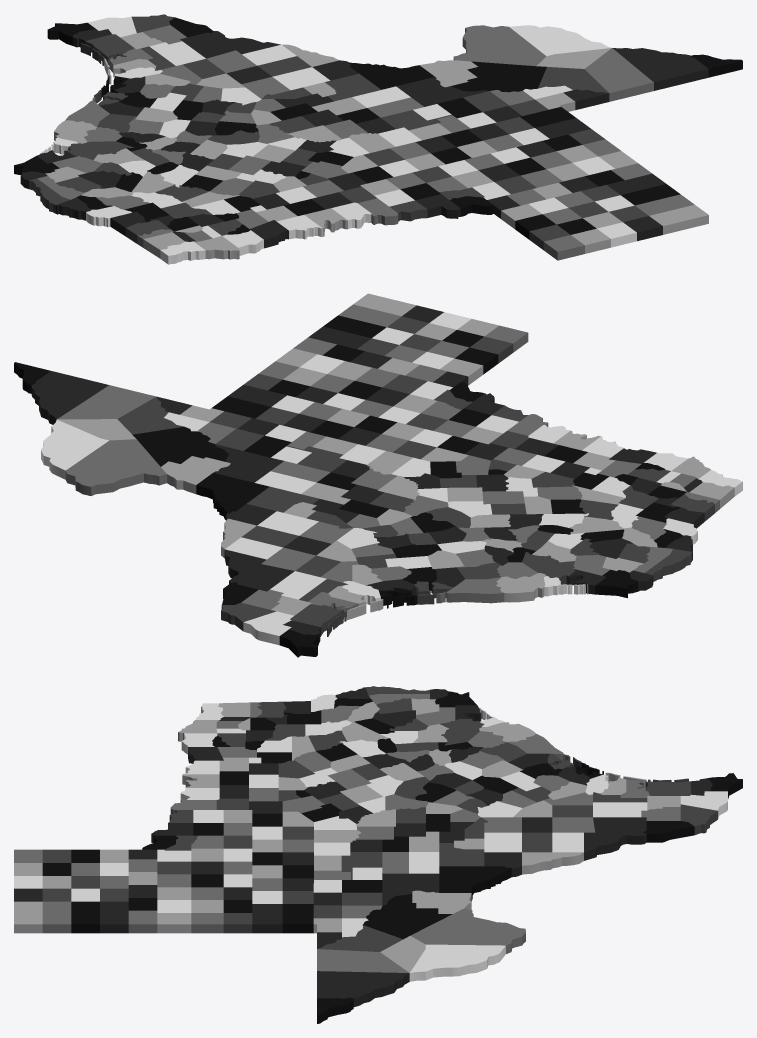
The model's file is Texas_Counties_3D.fbx.
3 renders of one model, top to bottom at view 1: azimuth 30°, elevation 25°; view 2: azimuth 150°, elevation 25°; view 3: azimuth 270°, elevation 25°, orthographic. The views are drawn at different scales.
Visible parts, largest first — view 1: TX_Brewster_County_3D, TX_Hudspeth_County_3D, TX_Pecos_County_3D, TX_Culberson_County_3D, TX_Presidio_County_3D, TX_Webb_County_3D, TX_Val_Verde_County_3D, TX_Crockett_County_3D, TX_Reeves_County_3D, TX_Dallam_County_3D, TX_Terrell_County_3D, TX_Kenedy_County_3D (+111 smaller); view 2: TX_Brewster_County_3D, TX_Pecos_County_3D, TX_Hudspeth_County_3D, TX_Presidio_County_3D, TX_Culberson_County_3D, TX_Val_Verde_County_3D, TX_Webb_County_3D, TX_Terrell_County_3D, TX_Crockett_County_3D, TX_Matagorda_County_3D, TX_Reeves_County_3D, TX_Brazoria_County_3D (+37 smaller); view 3: TX_Brewster_County_3D, TX_Presidio_County_3D, TX_Hudspeth_County_3D, TX_Pecos_County_3D, TX_Webb_County_3D, TX_Val_Verde_County_3D, TX_Culberson_County_3D, TX_Crockett_County_3D, TX_Reeves_County_3D, TX_Terrell_County_3D, TX_Maverick_County_3D, TX_Hartley_County_3D (+33 smaller).
Part boxes in pixels (left/top/right/bottom): TX_Brewster_County_3D: left=453, top=25, right=546, bottom=66; TX_Hudspeth_County_3D: left=612, top=48, right=708, bottom=90; TX_Pecos_County_3D: left=451, top=61, right=546, bottom=92; TX_Culberson_County_3D: left=585, top=48, right=653, bottom=101; TX_Presidio_County_3D: left=509, top=25, right=611, bottom=56; TX_Webb_County_3D: left=180, top=31, right=280, bottom=58; TX_Val_Verde_County_3D: left=348, top=62, right=434, bottom=89; TX_Crockett_County_3D: left=396, top=77, right=488, bottom=106; TX_Reeves_County_3D: left=538, top=67, right=608, bottom=92; TX_Dallam_County_3D: left=649, top=204, right=708, bottom=234; TX_Terrell_County_3D: left=419, top=60, right=477, bottom=87; TX_Kenedy_County_3D: left=80, top=34, right=134, bottom=65; TX_Brewster_County_3D: left=65, top=439, right=166, bottom=495; TX_Pecos_County_3D: left=132, top=426, right=228, bottom=466; TX_Hudspeth_County_3D: left=31, top=371, right=108, bottom=424; TX_Presidio_County_3D: left=41, top=419, right=108, bottom=479; TX_Culberson_County_3D: left=57, top=385, right=156, bottom=419; TX_Val_Verde_County_3D: left=196, top=473, right=269, bottom=519; TX_Webb_County_3D: left=224, top=549, right=294, bottom=591; TX_Terrell_County_3D: left=161, top=456, right=230, bottom=493; TX_Crockett_County_3D: left=213, top=444, right=283, bottom=482; TX_Matagorda_County_3D: left=436, top=577, right=504, bottom=603; TX_Reeves_County_3D: left=117, top=397, right=183, bottom=434; TX_Brazoria_County_3D: left=496, top=573, right=546, bottom=602; TX_Brewster_County_3D: left=410, top=908, right=525, bottom=953; TX_Presidio_County_3D: left=409, top=944, right=505, bottom=981; TX_Hudspeth_County_3D: left=317, top=971, right=409, bottom=1006; TX_Pecos_County_3D: left=363, top=894, right=452, bottom=939; TX_Webb_County_3D: left=584, top=817, right=646, bottom=860; TX_Val_Verde_County_3D: left=439, top=866, right=511, bottom=900; TX_Culberson_County_3D: left=317, top=949, right=408, bottom=972; TX_Crockett_County_3D: left=382, top=873, right=439, bottom=905; TX_Reeves_County_3D: left=318, top=925, right=402, bottom=951; TX_Terrell_County_3D: left=412, top=890, right=471, bottom=913; TX_Maverick_County_3D: left=522, top=852, right=583, bottom=874; TX_Hartley_County_3D: left=42, top=901, right=71, bottom=933.
Bounding box in the file's own units: 801 × 10 × 750.
